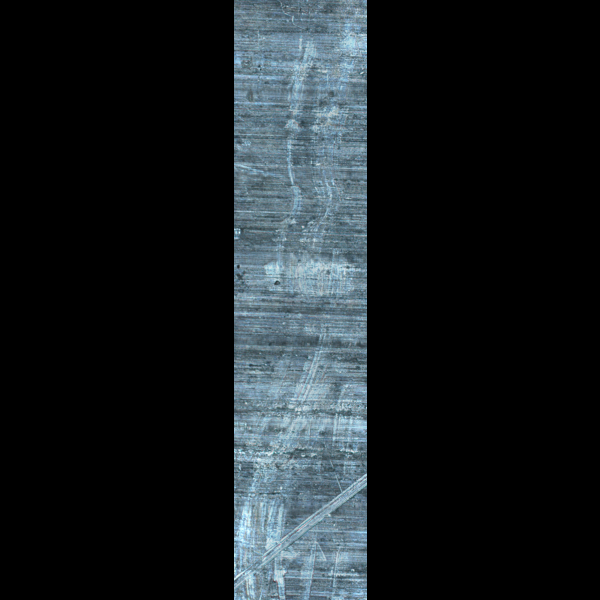d: (239, 465, 366, 595), (287, 29, 348, 297), (274, 326, 366, 462), (256, 240, 353, 304)
